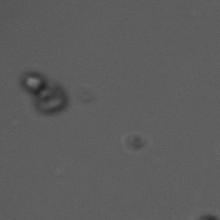Dead Cell: (35, 87, 68, 112)
Living Cell: (21, 72, 43, 91)
